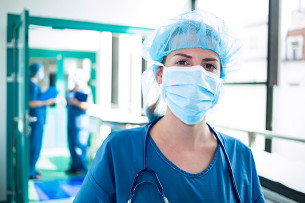face_mask: (162, 45, 222, 125)
